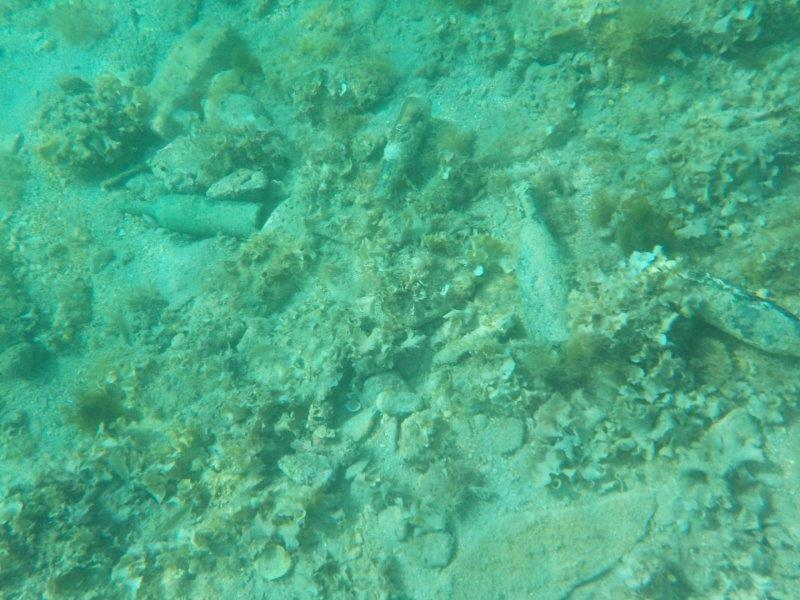bottle: (508, 179, 586, 347), (668, 263, 800, 360), (115, 191, 267, 244), (370, 90, 437, 206)
